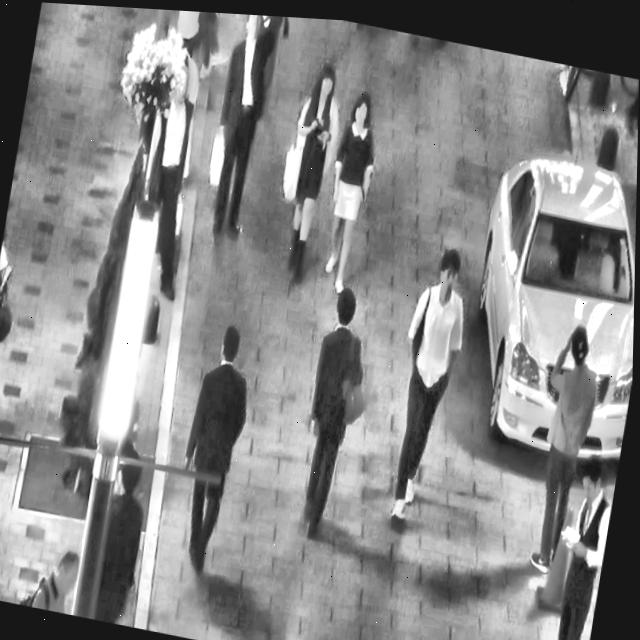light_vehicle: (448, 118, 638, 471)
